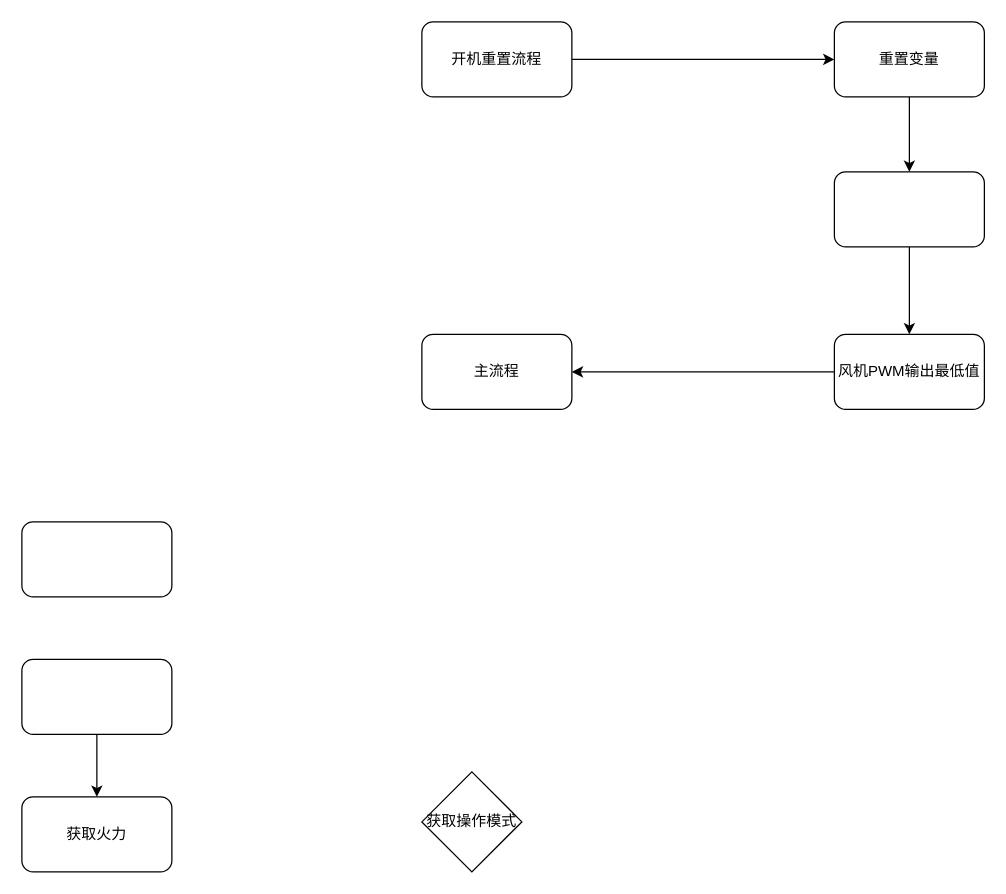
The diagram is 1006 pixels wide and 894 high, and some of its shapes have lost their labels. The shapes that lost their labels are listed below. From the top down, each one's box as (x1, y1, x2, y2) in pixels, then its label:
(833, 171, 984, 247): 重置状态变量
(21, 521, 172, 597): 获取BT温度
(21, 658, 172, 734): 获取ET温度
